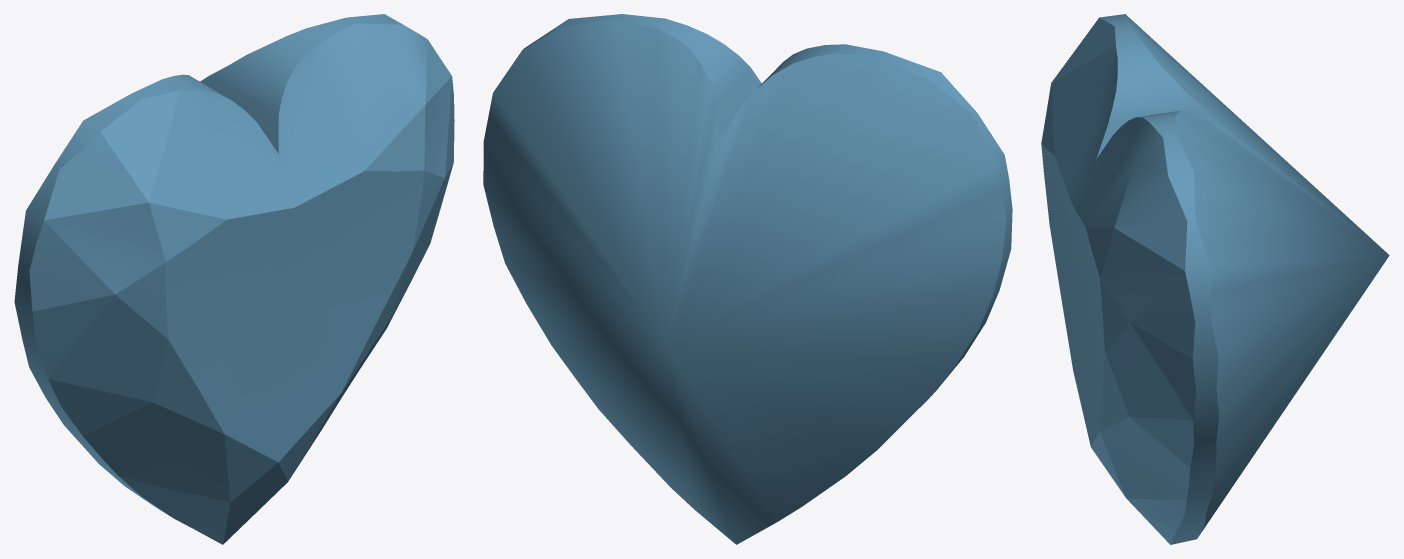
Rendered from TR1_8shapes_heart_Classic_Stone.001 2.glb.
The picture shows the model from 3 angles, left to right: view 1: azimuth 30°, elevation 25°; view 2: azimuth 150°, elevation 25°; view 3: azimuth 270°, elevation 25°; orthographic projection. The views are drawn at different scales.
Visible parts, largest first — view 1: TR1_8shapes_heart_Classic_Stone.001; view 2: TR1_8shapes_heart_Classic_Stone.001; view 3: TR1_8shapes_heart_Classic_Stone.001.
Boxes of the visible parts, x1,y1,x2,y2 form: TR1_8shapes_heart_Classic_Stone.001: [14, 14, 454, 544]; TR1_8shapes_heart_Classic_Stone.001: [483, 14, 1012, 544]; TR1_8shapes_heart_Classic_Stone.001: [1041, 14, 1389, 544].
Size of the model in its own units: 0.5694 by 0.5629 by 0.3794.
